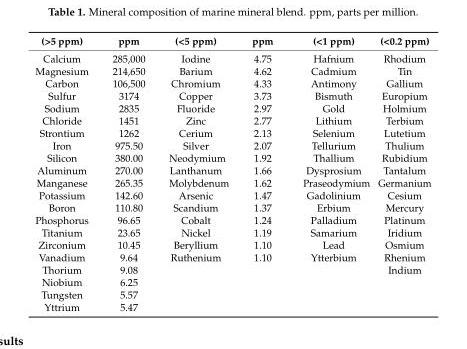table: (34, 34, 430, 312)
table column: (287, 34, 373, 312), (156, 34, 239, 312), (34, 34, 99, 312), (99, 34, 156, 312), (373, 34, 430, 312), (239, 34, 287, 312)
table column header: (34, 34, 430, 49)
table row: (34, 34, 430, 49), (34, 49, 430, 64), (34, 76, 430, 89), (34, 101, 430, 114), (34, 138, 430, 151), (34, 163, 430, 176), (34, 200, 430, 213), (34, 225, 430, 238), (34, 250, 430, 263), (34, 287, 430, 300), (34, 64, 430, 76), (34, 89, 430, 101), (34, 114, 430, 126), (34, 126, 430, 138), (34, 151, 430, 163), (34, 176, 430, 188), (34, 188, 430, 200), (34, 213, 430, 225), (34, 238, 430, 250), (34, 263, 430, 275), (34, 275, 430, 287), (34, 300, 430, 312)
